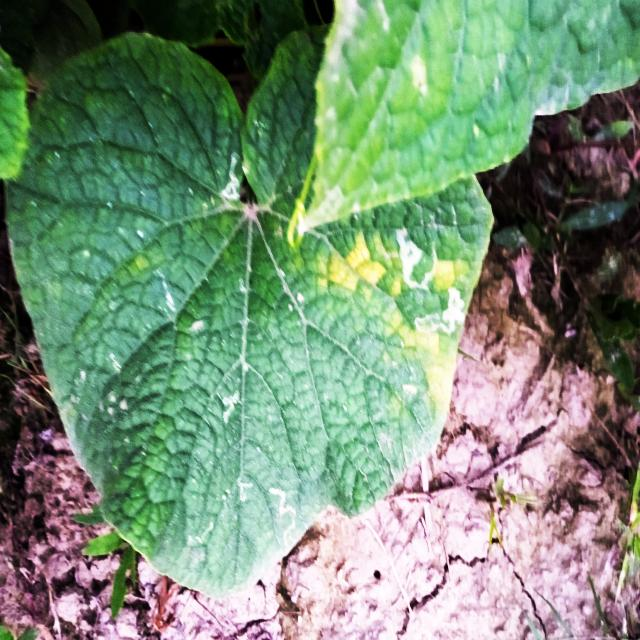Downy-Mildew: (284, 181, 491, 458)
